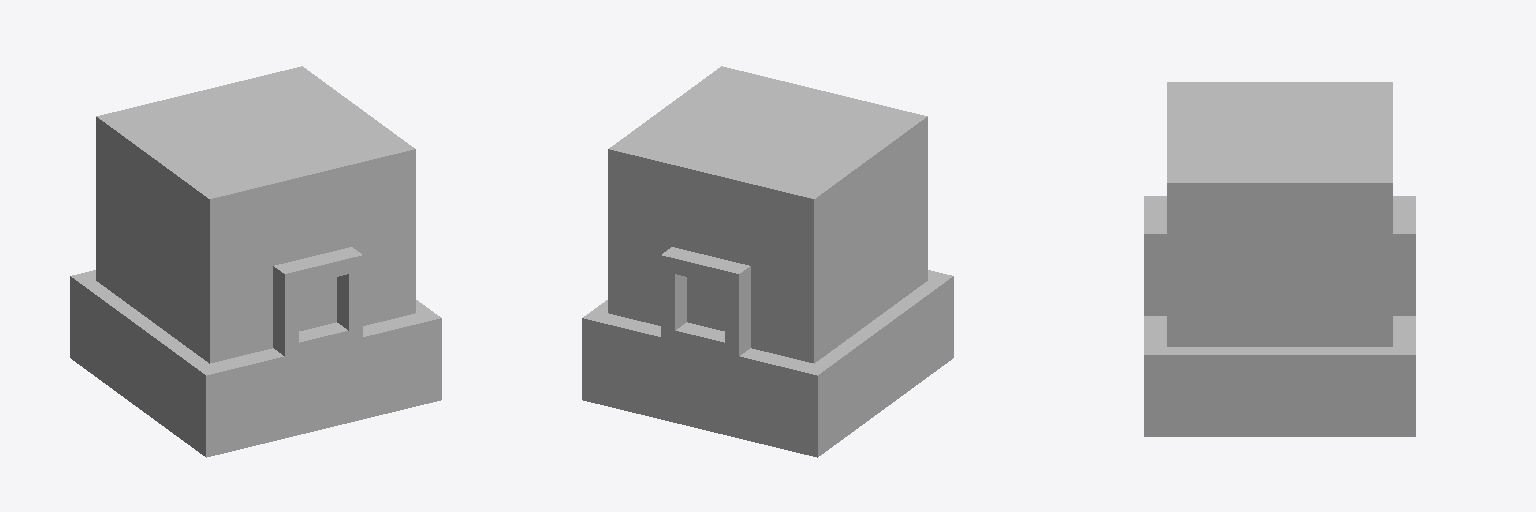
The model's file is assembler.obj.
The picture shows the model from 3 angles: view 1: azimuth 30°, elevation 25°; view 2: azimuth 150°, elevation 25°; view 3: azimuth 270°, elevation 25°; orthographic projection.
Parts seen in each view (by area): view 1: top, base, 1l, 1r, 1t, belt1; view 2: top, base, 2r, 2l, 2t, belt2; view 3: top, base, 1r, 2l, 1t, 2t.
Boxes of the visible parts, x1,y1,x2,y2 form: top: [96, 66, 415, 363]; base: [70, 270, 441, 457]; 1l: [273, 263, 298, 355]; 1r: [337, 247, 362, 340]; 1t: [288, 251, 348, 285]; belt1: [299, 322, 348, 352]; top: [608, 66, 927, 363]; base: [582, 270, 953, 457]; 2r: [725, 263, 750, 355]; 2l: [661, 247, 686, 340]; 2t: [675, 251, 735, 285]; belt2: [675, 322, 724, 352]; top: [1167, 82, 1392, 346]; base: [1144, 316, 1415, 436]; 1r: [1144, 227, 1166, 315]; 2l: [1393, 227, 1415, 315]; 1t: [1144, 203, 1166, 226]; 2t: [1393, 203, 1415, 226].
Bounding box in the file's own units: 3 × 3 × 3.